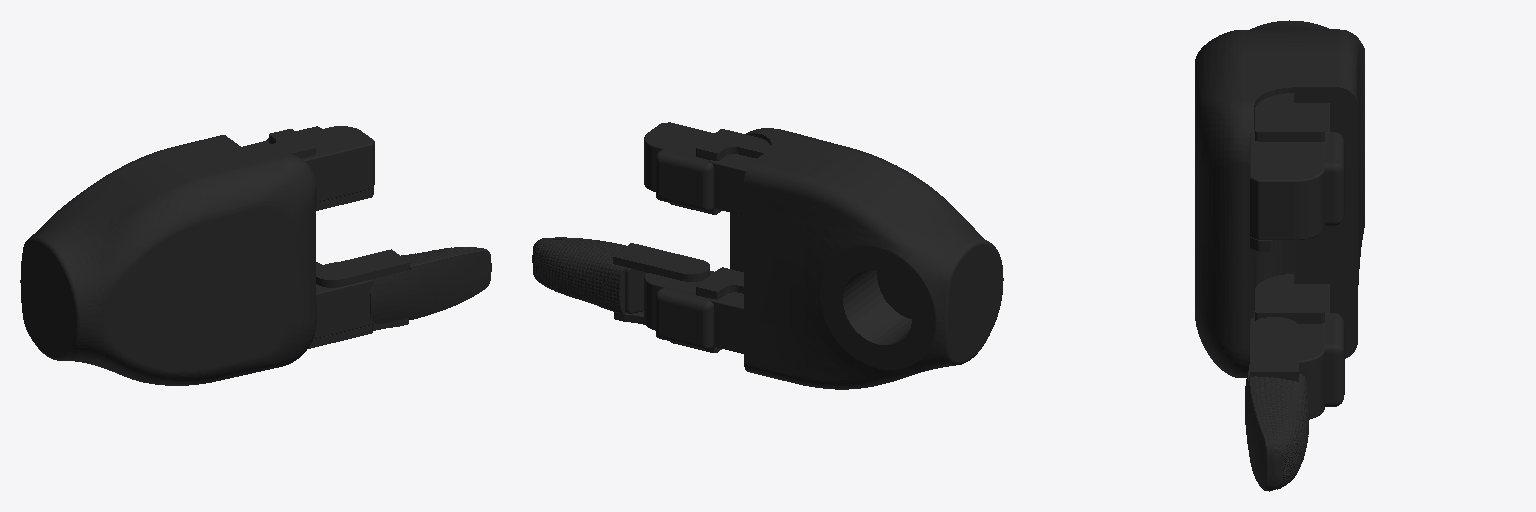
URDF robot description (dex3_1_r):
<robot name="dex3_1_r">
  <material name="dark">
    <color rgba="0.2 0.2 0.2 1"/>
  </material>

  <mujoco>
    <compiler meshdir="meshes" discardvisual="false"/>
  </mujoco>

  <!-- [CAUTION] uncomment when convert to mujoco -->
  <!-- <link name="world"></link>
  <joint name="floating_base_joint" type="floating">
    <parent link="world"/>
    <child link="right_hand_palm_link"/>
  </joint> -->

  <link name="right_hand_palm_link">
    <inertial>
      <origin xyz="0.06214634836 0.00050869656 -0.00058171093" rpy="0 0 0"/>
      <mass value="0.37283854"/>
      <inertia ixx="0.00027535181027" ixy="0.00001595519465" ixz="-0.00000242161890" iyy="0.00053951827219" iyz="0.00000042279435" izz="0.00039623390907"/>
    </inertial>
    <visual>
      <origin xyz="0 0 0" rpy="0 0 0"/>
      <geometry>
        <mesh filename="meshes/right_hand_palm_link.STL"/>
      </geometry>
      <material name="dark"/>
    </visual>
    <collision>
      <origin xyz="0 0 0" rpy="0 0 0"/>
      <geometry>
        <mesh filename="meshes/right_hand_palm_link.STL"/>
      </geometry>
    </collision>
  </link>
  <joint name="right_hand_thumb_0_joint" type="revolute">
    <origin xyz="0.0255 0 0" rpy="0 0 0"/>
    <axis xyz="0 1 0"/>
    <parent link="right_hand_palm_link"/>
    <child link="right_hand_thumb_0_link"/>
    <limit effort="2.45" velocity="3.14" lower="-1.04719755" upper="1.04719755"/>
  </joint>
  <link name="right_hand_thumb_0_link">
    <inertial>
      <origin xyz="-0.00088424580 0.00863407079 0.00094429336" rpy="0 0 0"/>
      <mass value="0.08623657"/>
      <inertia ixx="0.00001602919238" ixy="-0.00000010683177" ixz="0.00000016728875" iyy="0.00001451795012" iyz="0.00000051094752" izz="0.00001637877663"/>
    </inertial>
    <visual>
      <origin xyz="0 0 0" rpy="0 0 0"/>
      <geometry>
        <mesh filename="meshes/right_hand_thumb_0_link.STL"/>
      </geometry>
      <material name="dark"/>
    </visual>
    <collision>
      <origin xyz="0 0 0" rpy="0 0 0"/>
      <geometry>
        <mesh filename="meshes/right_hand_thumb_0_link.STL"/>
      </geometry>
    </collision>
  </link>
  <joint name="right_hand_thumb_1_joint" type="revolute">
    <origin xyz="-0.0025 0.0193 0" rpy="0 0 0"/>
    <axis xyz="0 0 1"/>
    <parent link="right_hand_thumb_0_link"/>
    <child link="right_hand_thumb_1_link"/>
    <limit effort="1.4" velocity="12" lower="-1.04719755" upper="0.61086523"/>
  </joint>
  <link name="right_hand_thumb_1_link">
    <inertial>
      <origin xyz="-0.00082788768 0.03547435774 -0.00038089960" rpy="0 0 0"/>
      <mass value="0.05885070"/>
      <inertia ixx="0.00001274699945" ixy="0.00000050770784" ixz="0.00000016088850" iyy="0.00000601573947" iyz="0.00000027839003" izz="0.00001234543582"/>
    </inertial>
    <visual>
      <origin xyz="0 0 0" rpy="0 0 0"/>
      <geometry>
        <mesh filename="meshes/right_hand_thumb_1_link.STL"/>
      </geometry>
      <material name="dark"/>
    </visual>
    <collision>
      <origin xyz="-0.001 0.032 0" rpy="0 0 0"/>
      <geometry>
        <box size="0.02 0.03 0.02"/>
      </geometry>
    </collision>
  </link>
  <joint name="right_hand_thumb_2_joint" type="revolute">
    <origin xyz="0 0.0458 0" rpy="0 0 0"/>
    <axis xyz="0 0 1"/>
    <parent link="right_hand_thumb_1_link"/>
    <child link="right_hand_thumb_2_link"/>
    <limit effort="1.4" velocity="12" lower="-1.74532925" upper="0"/>
  </joint>
  <link name="right_hand_thumb_2_link">
    <inertial>
      <origin xyz="-0.00171735242 0.02628192939 0.00010778879" rpy="0 0 0"/>
      <mass value="0.02030626"/>
      <inertia ixx="0.00000461267817" ixy="0.00000003422130" ixz="-0.00000000823881" iyy="0.00000153561368" iyz="0.00000002549885" izz="0.00000386625776"/>
    </inertial>
    <visual>
      <origin xyz="0 0 0" rpy="0 0 0"/>
      <geometry>
        <mesh filename="meshes/right_hand_thumb_2_link.STL"/>
      </geometry>
      <material name="dark"/>
    </visual>
    <collision>
      <origin xyz="0 0 0" rpy="0 0 0"/>
      <geometry>
        <mesh filename="meshes/right_hand_thumb_2_link.STL"/>
      </geometry>
    </collision>
  </link>
  <joint name="right_hand_middle_0_joint" type="revolute">
    <origin xyz="0.0777 -0.0016 -0.0285" rpy="0 0 0"/>
    <axis xyz="0 0 1"/>
    <parent link="right_hand_palm_link"/>
    <child link="right_hand_middle_0_link"/>
    <limit effort="1.4" velocity="12" lower="0" upper="1.57079632"/>
  </joint>
  <link name="right_hand_middle_0_link">
    <inertial>
      <origin xyz="0.03547435774 -0.00082788768 0.00038089960" rpy="0 0 0"/>
      <mass value="0.05885070"/>
      <inertia ixx="0.00000601573947" ixy="0.00000050770784" ixz="-0.00000027839003" iyy="0.00001274699945" iyz="-0.00000016088850" izz="0.00001234543582"/>
    </inertial>
    <visual>
      <origin xyz="0 0 0" rpy="0 0 0"/>
      <geometry>
        <mesh filename="meshes/right_hand_middle_0_link.STL"/>
      </geometry>
      <material name="dark"/>
    </visual>
    <collision>
      <origin xyz="0 0 0" rpy="0 0 0"/>
      <geometry>
        <mesh filename="meshes/right_hand_middle_0_link.STL"/>
      </geometry>
    </collision>
  </link>
  <joint name="right_hand_middle_1_joint" type="revolute">
    <origin xyz="0.0458 0 0" rpy="0 0 0"/>
    <axis xyz="0 0 1"/>
    <parent link="right_hand_middle_0_link"/>
    <child link="right_hand_middle_1_link"/>
    <limit effort="1.4" velocity="12" lower="0" upper="1.74532925"/>
  </joint>
  <link name="right_hand_middle_1_link">
    <inertial>
      <origin xyz="0.02628192939 -0.00171735242 -0.00010778879" rpy="0 0 0"/>
      <mass value="0.02030626"/>
      <inertia ixx="0.00000153561368" ixy="0.00000003422130" ixz="-0.00000002549885" iyy="0.00000461267817" iyz="0.00000000823881" izz="0.00000386625776"/>
    </inertial>
    <visual>
      <origin xyz="0 0 0" rpy="0 0 0"/>
      <geometry>
        <mesh filename="meshes/right_hand_middle_1_link.STL"/>
      </geometry>
      <material name="dark"/>
    </visual>
    <collision>
      <origin xyz="0 0 0" rpy="0 0 0"/>
      <geometry>
        <mesh filename="meshes/right_hand_middle_1_link.STL"/>
      </geometry>
    </collision>
  </link>
  <joint name="right_hand_index_0_joint" type="revolute">
    <origin xyz="0.0777 -0.0016 0.0285" rpy="0 0 0"/>
    <axis xyz="0 0 1"/>
    <parent link="right_hand_palm_link"/>
    <child link="right_hand_index_0_link"/>
    <limit effort="1.4" velocity="12" lower="0" upper="1.57079632"/>
  </joint>
  <link name="right_hand_index_0_link">
    <inertial>
      <origin xyz="0.03547435774 -0.00082788768 0.00038089960" rpy="0 0 0"/>
      <mass value="0.05885070"/>
      <inertia ixx="0.00000601573947" ixy="0.00000050770784" ixz="-0.00000027839003" iyy="0.00001274699945" iyz="-0.00000016088850" izz="0.00001234543582"/>
    </inertial>
    <visual>
      <origin xyz="0 0 0" rpy="0 0 0"/>
      <geometry>
        <mesh filename="meshes/right_hand_index_0_link.STL"/>
      </geometry>
      <material name="dark"/>
    </visual>
    <collision>
      <origin xyz="0 0 0" rpy="0 0 0"/>
      <geometry>
        <mesh filename="meshes/right_hand_index_0_link.STL"/>
      </geometry>
    </collision>
  </link>
  <joint name="right_hand_index_1_joint" type="revolute">
    <origin xyz="0.0458 0 0" rpy="0 0 0"/>
    <axis xyz="0 0 1"/>
    <parent link="right_hand_index_0_link"/>
    <child link="right_hand_index_1_link"/>
    <limit effort="1.4" velocity="12" lower="0" upper="1.74532925"/>
  </joint>
  <link name="right_hand_index_1_link">
    <inertial>
      <origin xyz="0.02628192939 -0.00171735242 -0.00010778879" rpy="0 0 0"/>
      <mass value="0.02030626"/>
      <inertia ixx="0.00000153561368" ixy="0.00000003422130" ixz="-0.00000002549885" iyy="0.00000461267817" iyz="0.00000000823881" izz="0.00000386625776"/>
    </inertial>
    <visual>
      <origin xyz="0 0 0" rpy="0 0 0"/>
      <geometry>
        <mesh filename="meshes/right_hand_index_1_link.STL"/>
      </geometry>
      <material name="dark"/>
    </visual>
    <collision>
      <origin xyz="0 0 0" rpy="0 0 0"/>
      <geometry>
        <mesh filename="meshes/right_hand_index_1_link.STL"/>
      </geometry>
    </collision>
  </link>
</robot>

--- Render facts (derived) ---
Views: 3 orthographic renders of the robot side by side, from view 1: azimuth 30°, elevation 25°; view 2: azimuth 150°, elevation 25°; view 3: azimuth 270°, elevation 25°.
Robot: dex3_1_r — 8 links, 7 joints (7 revolute); root link right_hand_palm_link; default pose: all joints at 0.
Links seen in each view (by area): view 1: right_hand_palm_link, right_hand_middle_1_link, right_hand_index_0_link, right_hand_middle_0_link; view 2: right_hand_palm_link, right_hand_middle_1_link, right_hand_index_0_link, right_hand_middle_0_link; view 3: right_hand_palm_link, right_hand_index_0_link, right_hand_middle_1_link, right_hand_middle_0_link.
Link boxes in pixels (x1=…): right_hand_palm_link: x1=20, y1=135, x2=316, y2=385; right_hand_middle_1_link: x1=316, y1=247, x2=491, y2=330; right_hand_index_0_link: x1=248, y1=126, x2=374, y2=210; right_hand_middle_0_link: x1=308, y1=262, x2=373, y2=348; right_hand_palm_link: x1=709, y1=128, x2=1003, y2=389; right_hand_middle_1_link: x1=532, y1=237, x2=709, y2=324; right_hand_index_0_link: x1=644, y1=122, x2=770, y2=214; right_hand_middle_0_link: x1=644, y1=267, x2=743, y2=352; right_hand_palm_link: x1=1195, y1=20, x2=1364, y2=377; right_hand_index_0_link: x1=1250, y1=93, x2=1344, y2=251; right_hand_middle_1_link: x1=1245, y1=317, x2=1309, y2=491; right_hand_middle_0_link: x1=1250, y1=274, x2=1344, y2=419.
Bounding box of the posed robot: 0.1921 × 0.0486 × 0.086 m (x, y, z).
4 mesh visuals loaded from 8 distinct referenced files (4 binary STL); not drawn: 4 (reference not matched to a file when rendering).